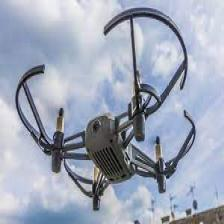drone: (59, 101, 169, 199)
